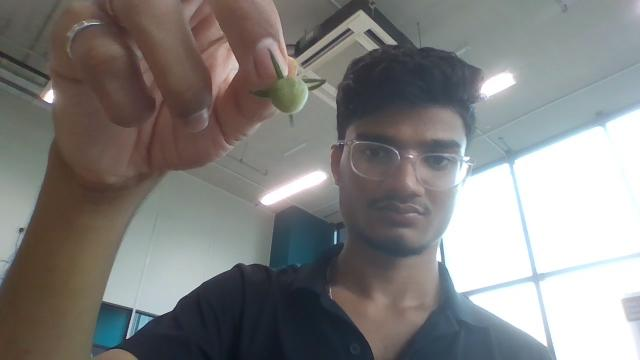Fruit Maturation: (269, 74, 309, 115)
